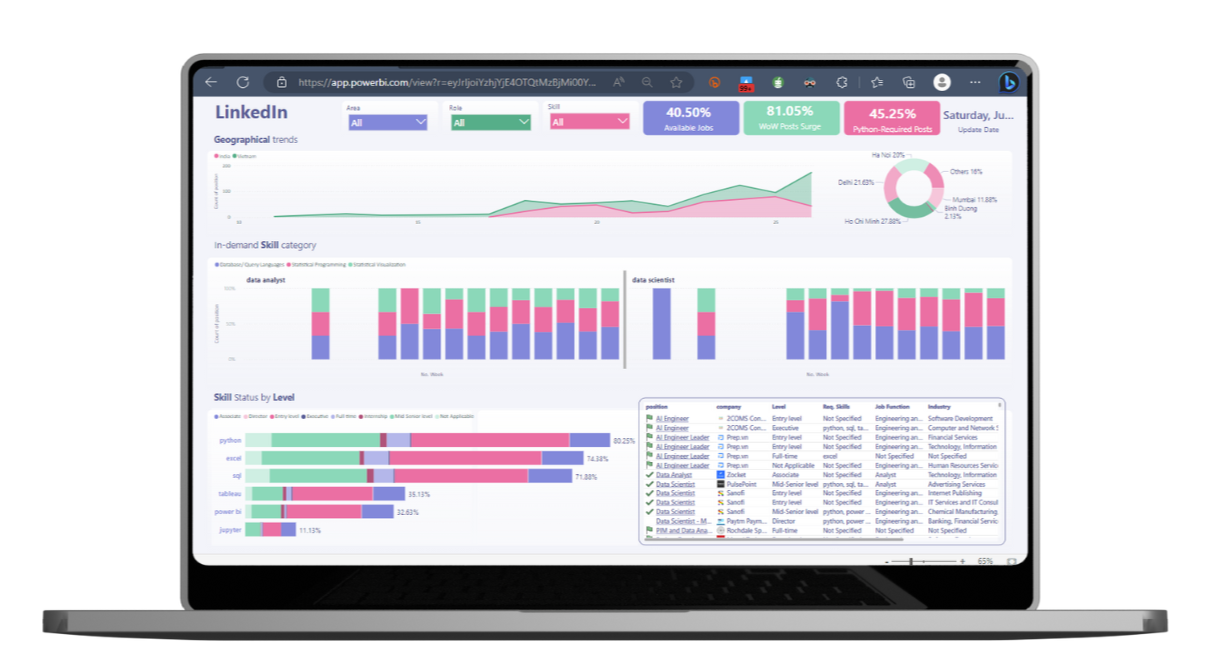

What the dashboard file says about the page in this screenshot:
{"tool":"powerbi","page":{"name":"Dashboard","canvas":[1920,1080],"ordinal":0},"visuals":[{"type":"barChart","fields":{"Category":["df_skill.skill"],"Y":["CountNonNull(df.position)"],"Series":["df.Level"]},"box":[20,736,1008,326],"z":0},{"type":"stackedAreaChart","fields":{"Category":["df.No. Week"],"Y":["CountNonNull(df.position)"],"Series":["df.area"]},"box":[20,120,1432,194],"z":1000},{"type":"textbox","box":[22.7,0,208.3,80.4],"z":2000},{"type":"textbox","box":[21.7,330,298.3,45],"z":3000},{"type":"textbox","box":[20,80,298.3,40],"z":4000},{"type":"textbox","box":[20,690,297.5,45],"z":5000},{"type":"tableEx","fields":{"Values":["df.position","df.company","df.Level","df.Req. Skills","df.Job Function","df.Industry","df.list_date"]},"box":[1028.8,711.5,867.1,348.8],"z":6000},{"type":"card","fields":{"Values":["key_measure.% active_post"]},"box":[983.2,8.1,327.8,82.9],"z":7000},{"type":"card","fields":{"Values":["key_measure.Postes WoW change %"]},"box":[1267.3,1.8,236.7,87.4],"z":8000},{"type":"card","fields":{"Values":["key_measure.% Posted required Power Bi"]},"box":[1514.9,10.1,225.8,79.1],"z":9000},{"type":"donutChart","fields":{"Category":["df.city (groups)"],"Y":["CountNonNull(df.city (groups))"]},"box":[1462.3,120.2,433.6,193.1],"z":10000},{"type":"hundredPercentStackedColumnChart","fields":{"Series":["df_skill.skill (groups)"],"Y":["CountNonNull(df.position)"],"Rows":["df.role"],"Category":["df.No. Week"]},"box":[22,376,1890,294],"z":11000},{"type":"card","fields":{"Values":["Max(df.list_date)"]},"box":[1740.6,10.3,179.4,88.7],"z":12000},{"type":"slicer","title":"Area","fields":{"Values":["df.area"]},"box":[332.9,14.3,207.1,80],"z":13000},{"type":"slicer","title":"Role","fields":{"Values":["df.role"]},"box":[575.7,14.3,208.6,80],"z":14000},{"type":"slicer","title":"Skill","fields":{"Values":["df_skill.skill"]},"box":[808.6,10,208.6,80],"z":15000}]}

Visuals, with their boxes on the page's 1920x1080 design canvas (x1, y1, x2, y2). These are canvas units, not pixel positions in the 1207x668 screenshot, which may show the page scaled, cropped or inside an application window:
barChart - df_skill.skill x CountNonNull(df.position): 20/736/1028/1062
stackedAreaChart - df.No. Week x CountNonNull(df.position): 20/120/1452/314
textbox: 23/0/231/80
textbox: 22/330/320/375
textbox: 20/80/318/120
textbox: 20/690/318/735
tableEx - df.position x df.company: 1029/712/1896/1060
card - key_measure.% active_post: 983/8/1311/91
card - key_measure.Postes WoW change %: 1267/2/1504/89
card - key_measure.% Posted required Power Bi: 1515/10/1741/89
donutChart - df.city (groups) x CountNonNull(df.city (groups)): 1462/120/1896/313
hundredPercentStackedColumnChart - df_skill.skill (groups) x CountNonNull(df.position): 22/376/1912/670
card - Max(df.list_date): 1741/10/1920/99
"Area" slicer: 333/14/540/94
"Role" slicer: 576/14/784/94
"Skill" slicer: 809/10/1017/90
